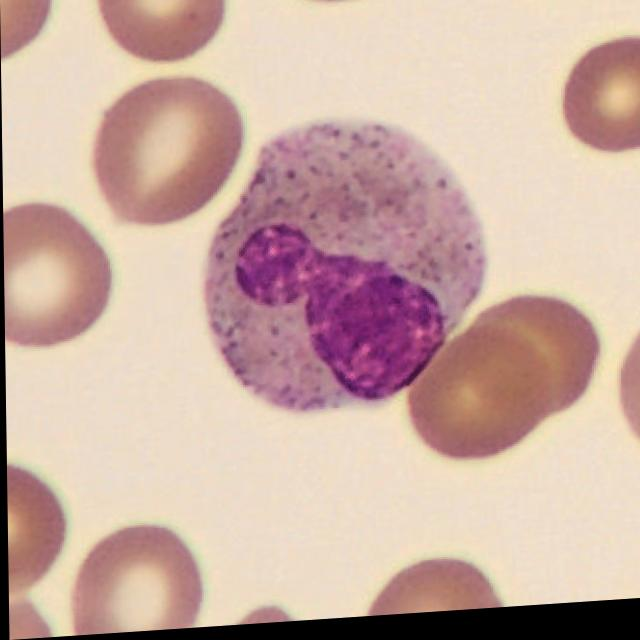Neutrofilo segmentado: (204, 125, 487, 420)
